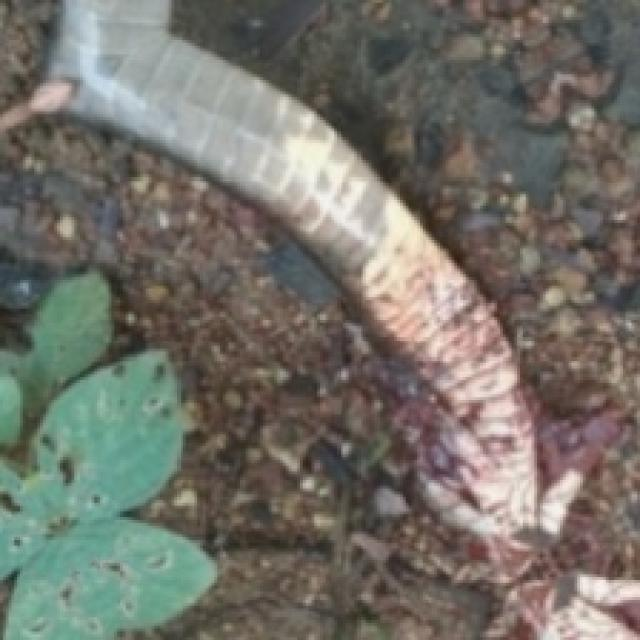king cobra: (0, 0, 637, 637), (29, 0, 580, 571), (0, 0, 54, 109)
